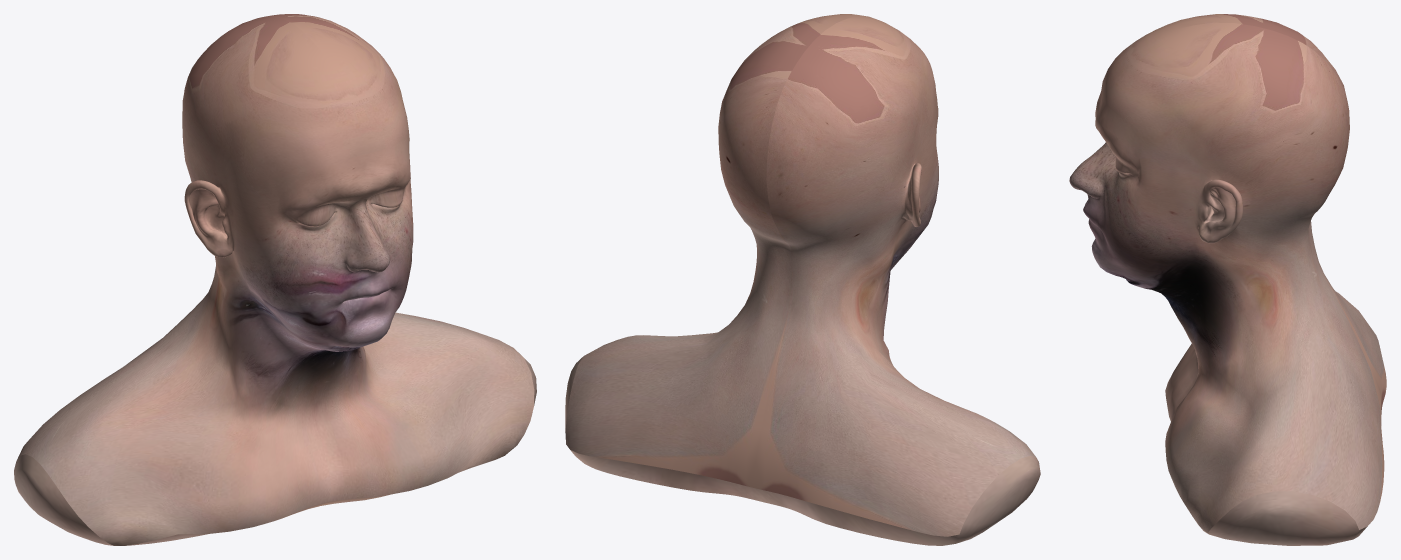
3 views of the same model, side by side, from view 1: azimuth 30°, elevation 25°; view 2: azimuth 150°, elevation 25°; view 3: azimuth 270°, elevation 25° (orthographic). The views are drawn at different scales.
Visible parts, largest first — view 1: MarinaAbramovic_Head; view 2: MarinaAbramovic_Head; view 3: MarinaAbramovic_Head.
Boxes of the visible parts, box(x1,y1,x2,y2) form: MarinaAbramovic_Head: box(14, 14, 536, 545); MarinaAbramovic_Head: box(565, 14, 1040, 545); MarinaAbramovic_Head: box(1069, 14, 1386, 545).
Size of the model in its own units: 8.55 by 7.95 by 5.22.
1 material, 1 textured.
